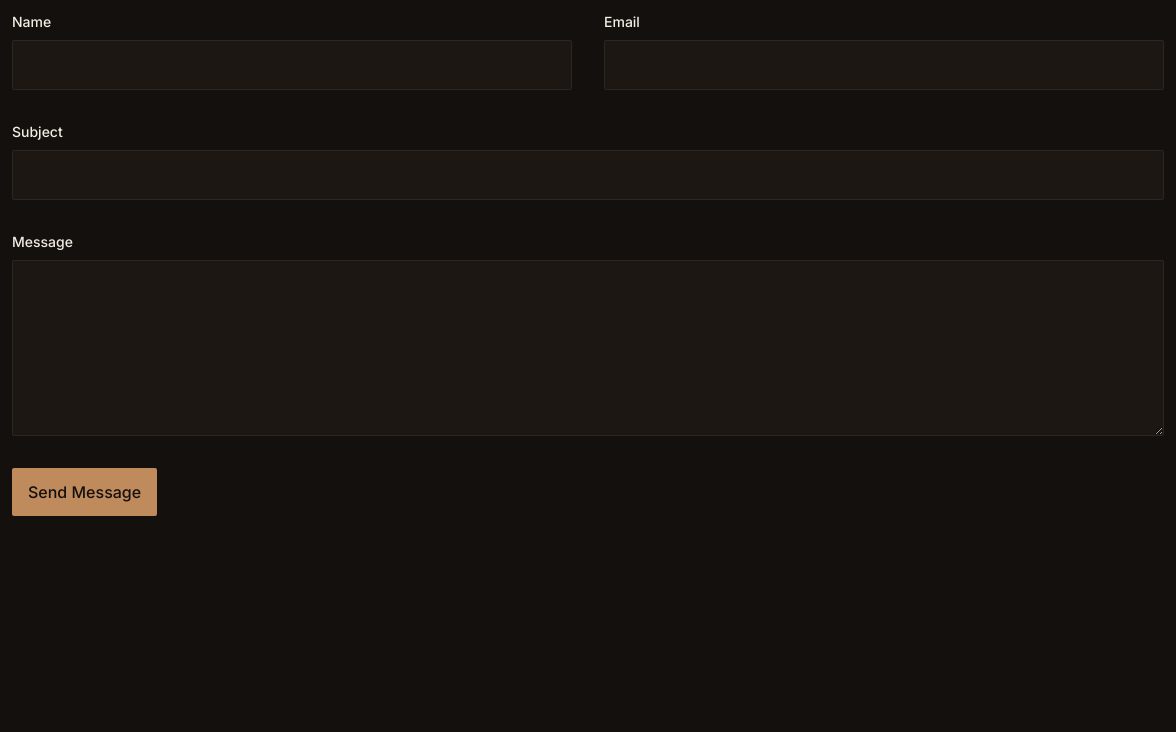
Scenario: ContactForm — validation › asks for more detail on a one-word message
Type "Thandi Mokoena" into the field labelled "Name" at x=292, y=65, box [12,40,572,90]
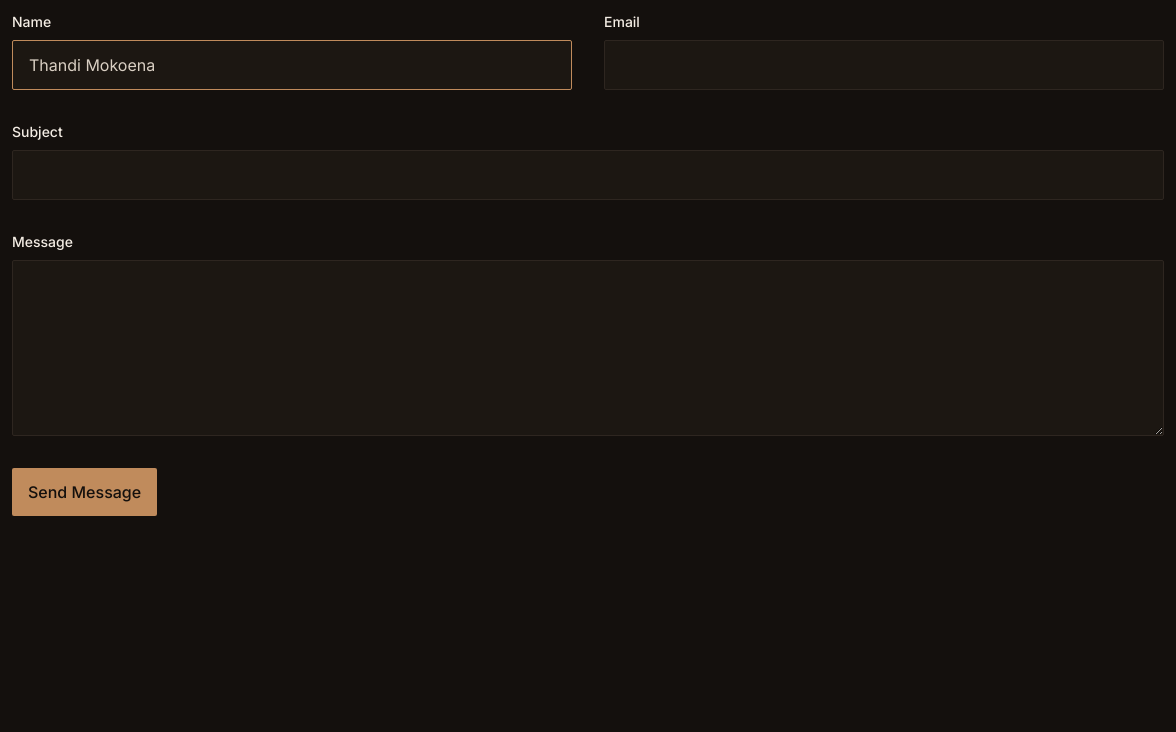
Type "thandi@example.com" into the field labelled "Email" at x=884, y=65, box [604,40,1164,90]
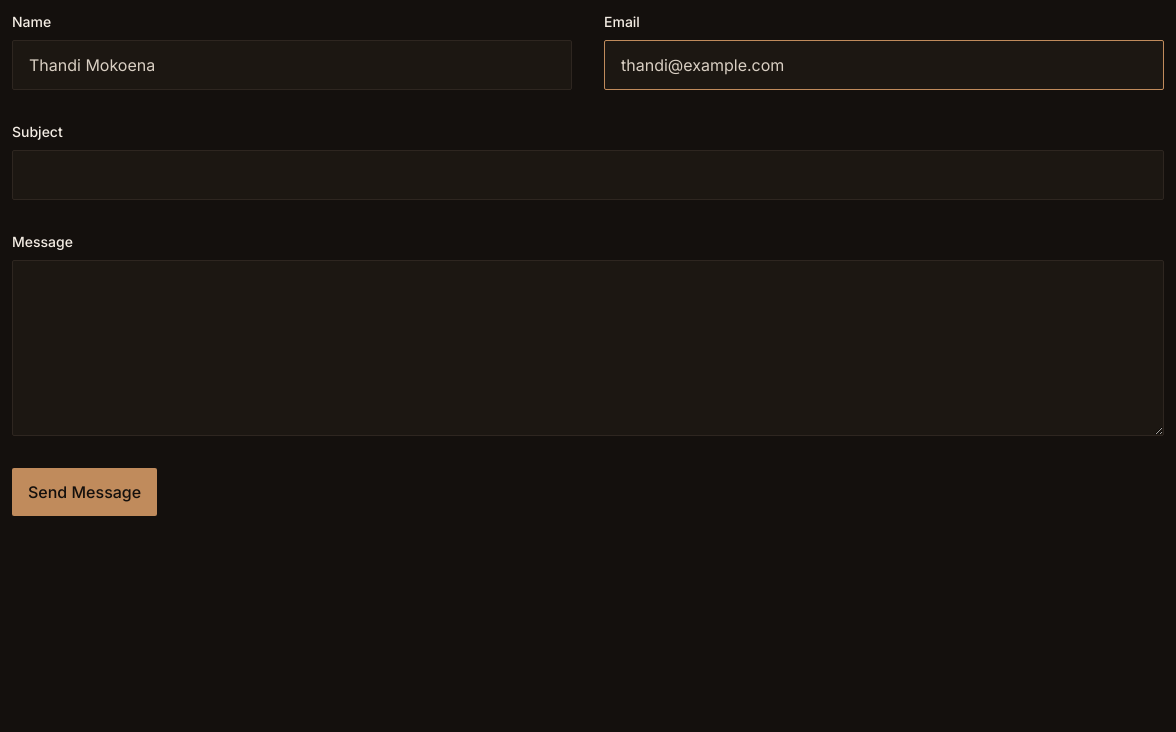
Type "Subscription question" into the field labelled "Subject" at x=588, y=175, box [12,150,1164,200]
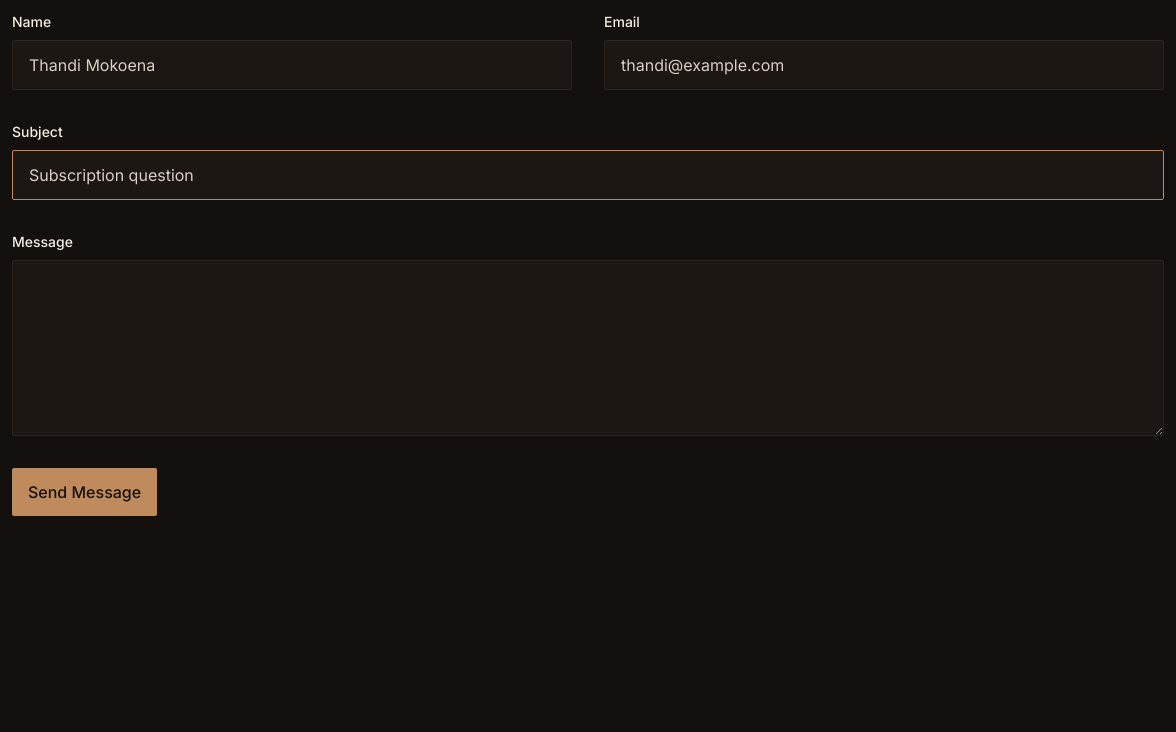
Type "hi" into the text box labelled "Message" at x=588, y=348, box [12,260,1164,436]
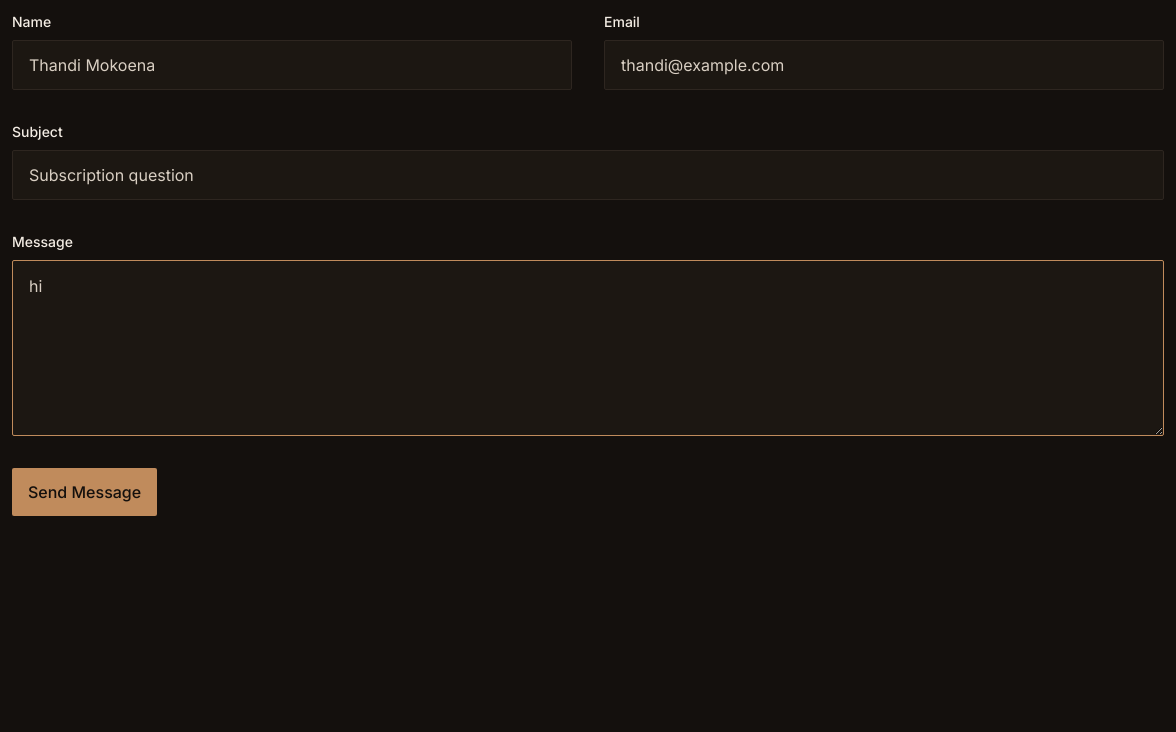
Click the button "Send Message" at x=85, y=492, box [12,468,157,516]
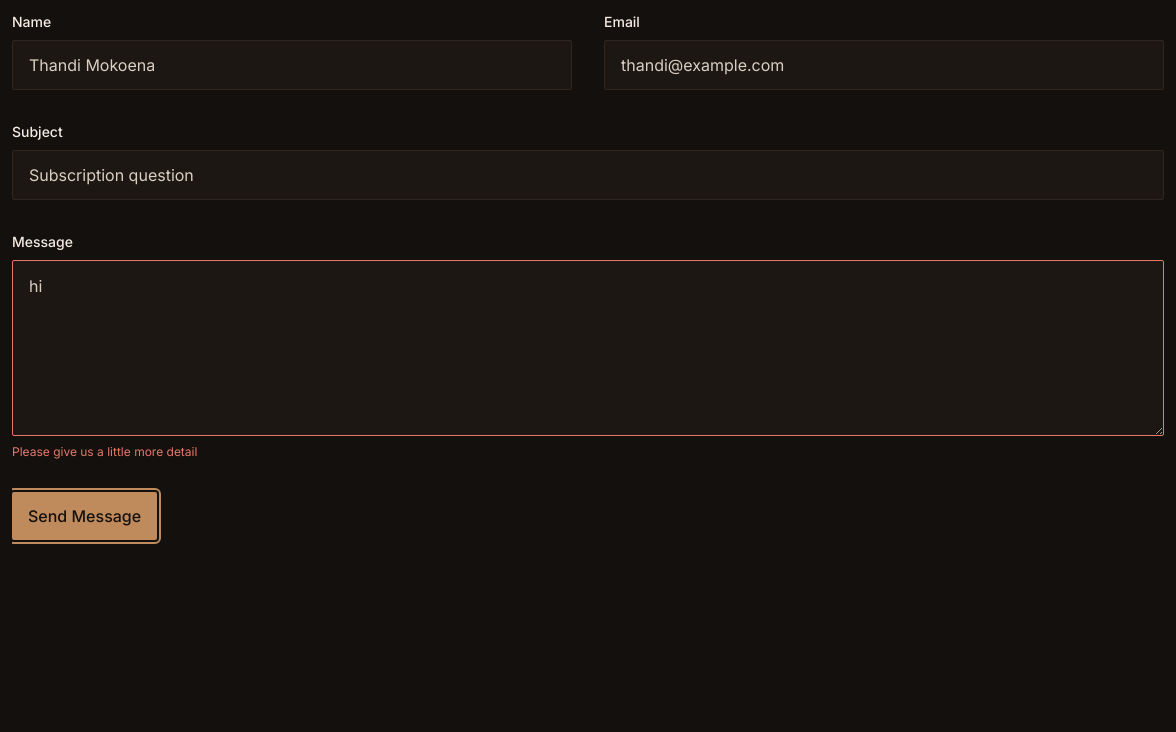
expect the text "Please give us a little more detail" is shown: met, box [12,444,197,459]
